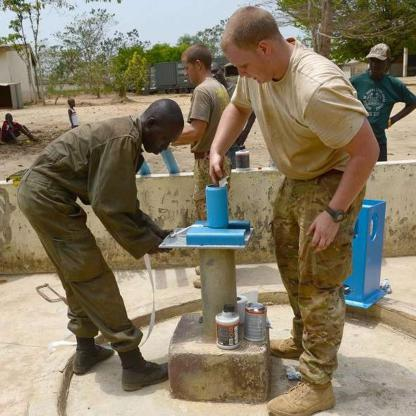face: (224, 45, 272, 85), (145, 120, 184, 156), (182, 56, 198, 85), (370, 56, 387, 77), (209, 65, 223, 84), (7, 115, 13, 123), (71, 100, 76, 108)
